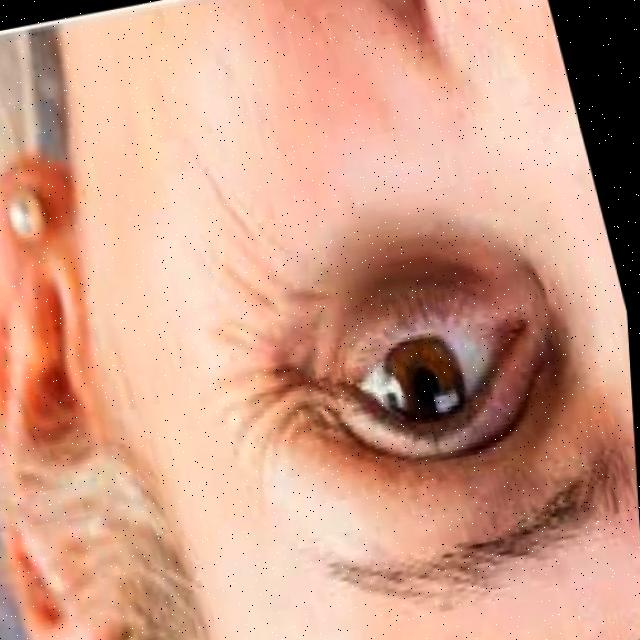puffy_eyes: (310, 218, 547, 387)
